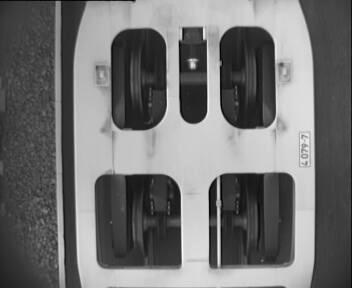twist_lock_2: (100, 21, 286, 135)
